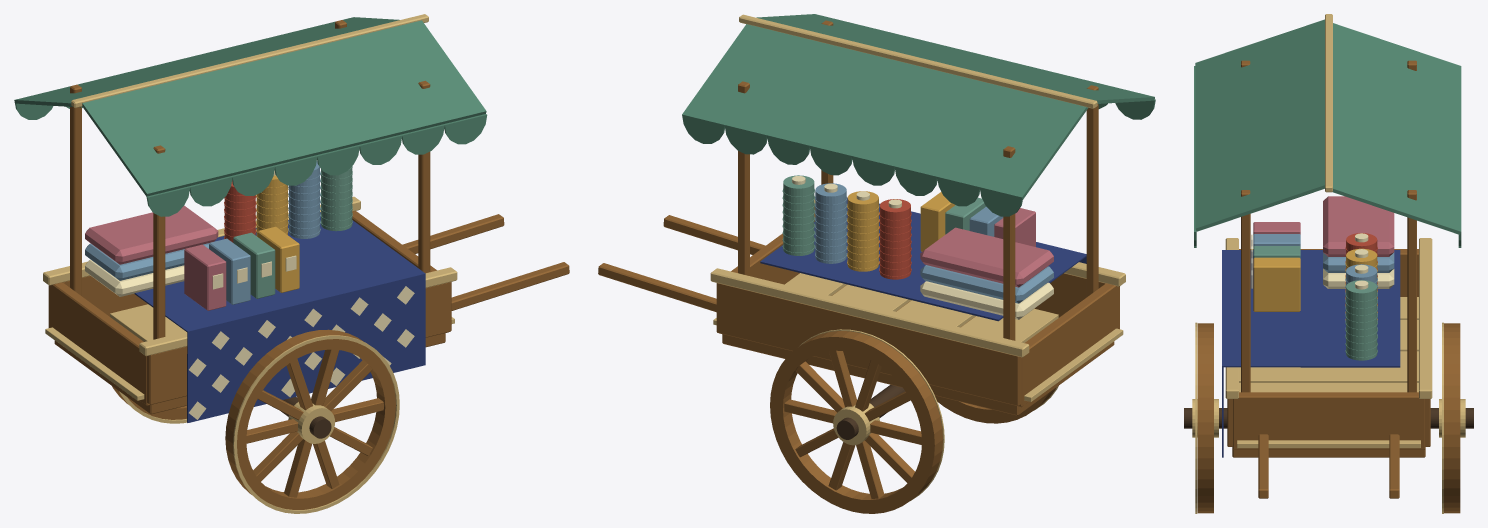
Rendered from notions_cart.glb.
The picture shows the model from 3 angles, left to right: view 1: azimuth 30°, elevation 25°; view 2: azimuth 150°, elevation 25°; view 3: azimuth 270°, elevation 25°; orthographic projection.
Visible parts, largest first — view 1: CanopyLeaf.002, IndigoTableCloth.001, WoodenRim.002, CanopyLeaf.003, EndBoard.002, FoldedFabric.005, SideRail.002, CanopyPost.005, RimPaperEdge.002, CanopyRidge.001, SampleBook.004, CanopyPost.004 (+36 smaller); view 2: CanopyLeaf.003, SideRail.003, WoodenRim.003, CanopyLeaf.002, IndigoTableCloth.001, EndBoard.002, Rim.003, FoldedFabric.005, CanopyRidge.001, CartBed.001, CanopyPost.004, ThreadCone.005 (+40 smaller); view 3: CanopyLeaf.002, CanopyLeaf.003, IndigoTableCloth.001, EndBoard.003, WoodenRim.003, WoodenRim.002, FoldedFabric.005, BedPlank.007, SampleBook.007, Rim.003, ThreadCone.007, CanopyPost.007 (+22 smaller).
Boxes of the visible parts, x1=… form: CanopyLeaf.002: x1=82, y1=20, x2=486, y2=196; IndigoTableCloth.001: x1=134, y1=212, x2=425, y2=422; WoodenRim.002: x1=225, y1=329, x2=395, y2=509; CanopyLeaf.003: x1=14, y1=17, x2=399, y2=107; EndBoard.002: x1=50, y1=282, x2=149, y2=405; FoldedFabric.005: x1=85, y1=205, x2=218, y2=264; SideRail.002: x1=147, y1=282, x2=451, y2=404; CanopyPost.005: x1=70, y1=84, x2=81, y2=295; RimPaperEdge.002: x1=233, y1=335, x2=399, y2=513; CanopyRidge.001: x1=71, y1=14, x2=428, y2=108; SampleBook.004: x1=184, y1=244, x2=226, y2=310; CanopyPost.004: x1=153, y1=145, x2=165, y2=339; CanopyLeaf.003: x1=682, y1=24, x2=1088, y2=199; SideRail.003: x1=716, y1=283, x2=1021, y2=405; WoodenRim.003: x1=770, y1=331, x2=942, y2=513; CanopyLeaf.002: x1=756, y1=14, x2=1154, y2=103; IndigoTableCloth.001: x1=760, y1=198, x2=1086, y2=321; EndBoard.002: x1=1018, y1=283, x2=1117, y2=407; Rim.003: x1=710, y1=268, x2=1029, y2=357; FoldedFabric.005: x1=920, y1=227, x2=1053, y2=287; CanopyRidge.001: x1=739, y1=14, x2=1097, y2=108; CartBed.001: x1=722, y1=285, x2=1114, y2=415; CanopyPost.004: x1=1086, y1=85, x2=1098, y2=296; ThreadCone.005: x1=847, y1=191, x2=878, y2=271; CanopyLeaf.002: x1=1195, y1=19, x2=1324, y2=231; CanopyLeaf.003: x1=1332, y1=23, x2=1461, y2=234; IndigoTableCloth.001: x1=1222, y1=250, x2=1400, y2=457; EndBoard.003: x1=1232, y1=392, x2=1425, y2=449; WoodenRim.003: x1=1444, y1=323, x2=1460, y2=513; WoodenRim.002: x1=1197, y1=323, x2=1213, y2=513; FoldedFabric.005: x1=1323, y1=196, x2=1394, y2=256; BedPlank.007: x1=1239, y1=351, x2=1418, y2=382; SampleBook.007: x1=1253, y1=257, x2=1300, y2=311; Rim.003: x1=1419, y1=238, x2=1432, y2=398; ThreadCone.007: x1=1346, y1=280, x2=1377, y2=360; CanopyPost.007: x1=1407, y1=190, x2=1416, y2=392.
Size of the model in its own units: 3.6 by 3.01 by 1.95.
